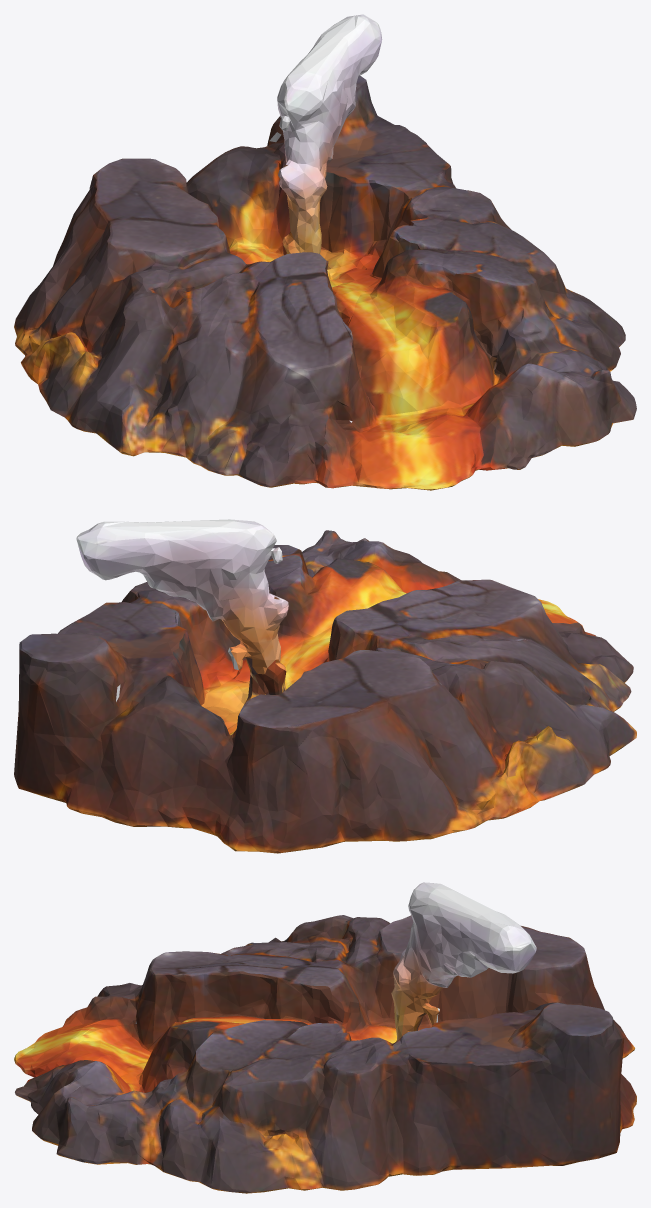
Rendered from dino_lava_vent_1117.glb.
3 renders of one model, top to bottom at view 1: azimuth 30°, elevation 25°; view 2: azimuth 150°, elevation 25°; view 3: azimuth 270°, elevation 25°, orthographic. The views are drawn at different scales.
Visible parts, largest first — view 1: tmpx3iwnl_d.ply; view 2: tmpx3iwnl_d.ply; view 3: tmpx3iwnl_d.ply.
Part boxes in pixels (<box>): tmpx3iwnl_d.ply: <box>14,14,636,490</box>; tmpx3iwnl_d.ply: <box>14,519,636,853</box>; tmpx3iwnl_d.ply: <box>14,882,636,1193</box>.
Bounding box in the file's own units: 1.76 × 0.764 × 1.99.
Materials: 1 (1 with a texture image).
